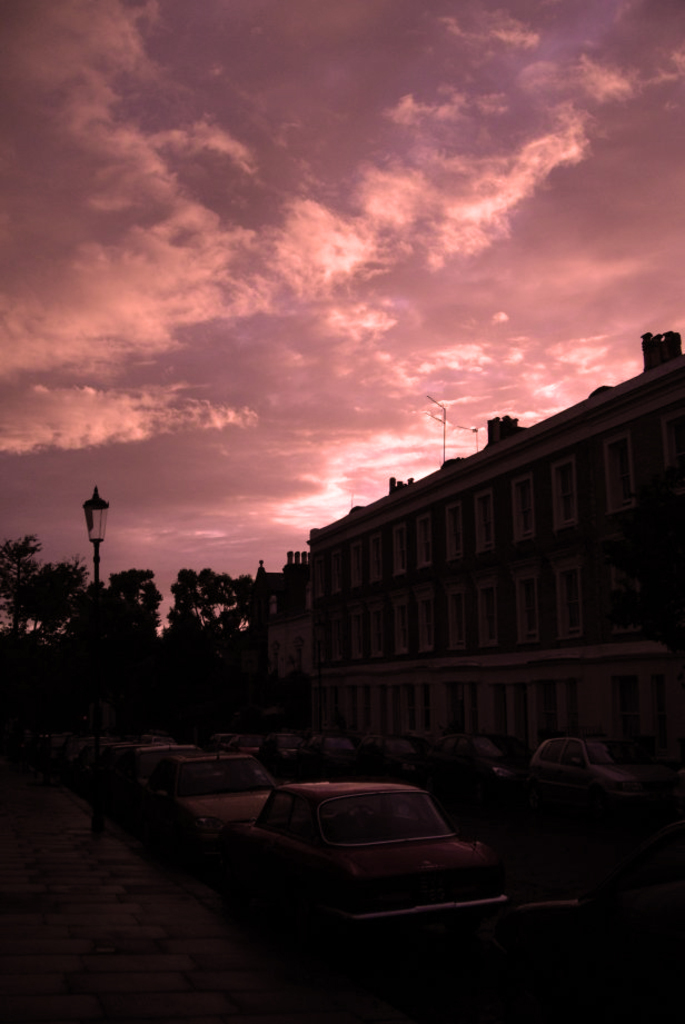Car: (103, 721, 683, 958)
